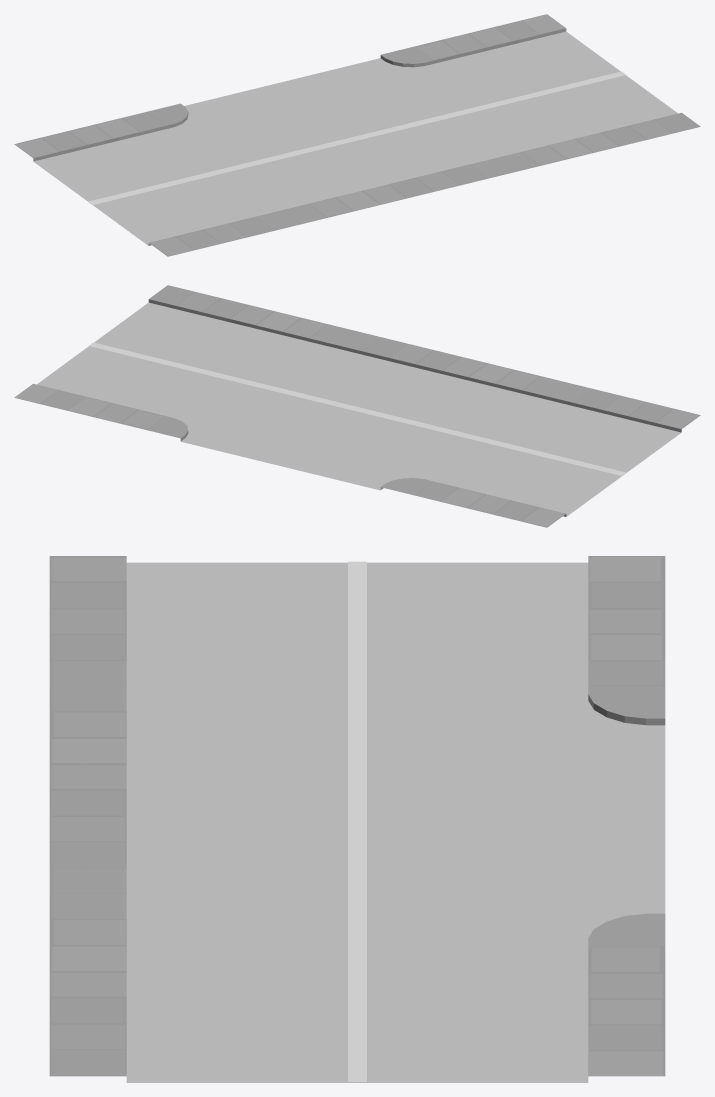
The model's file is tile_road_crossroad_1x2_a.fbx.
The picture shows the model from 3 angles, top to bottom: view 1: azimuth 30°, elevation 25°; view 2: azimuth 150°, elevation 25°; view 3: azimuth 270°, elevation 25°; orthographic projection. The views are drawn at different scales.
Parts seen in each view (by area): view 1: tile_road_crossroad_1x2_a; view 2: tile_road_crossroad_1x2_a; view 3: tile_road_crossroad_1x2_a.
Part boxes in pixels (<box>): tile_road_crossroad_1x2_a: <box>14,14,700,256</box>; tile_road_crossroad_1x2_a: <box>14,285,700,527</box>; tile_road_crossroad_1x2_a: <box>49,556,665,1082</box>.
Bounding box in the file's own units: 3200 × 19.01 × 1600.
